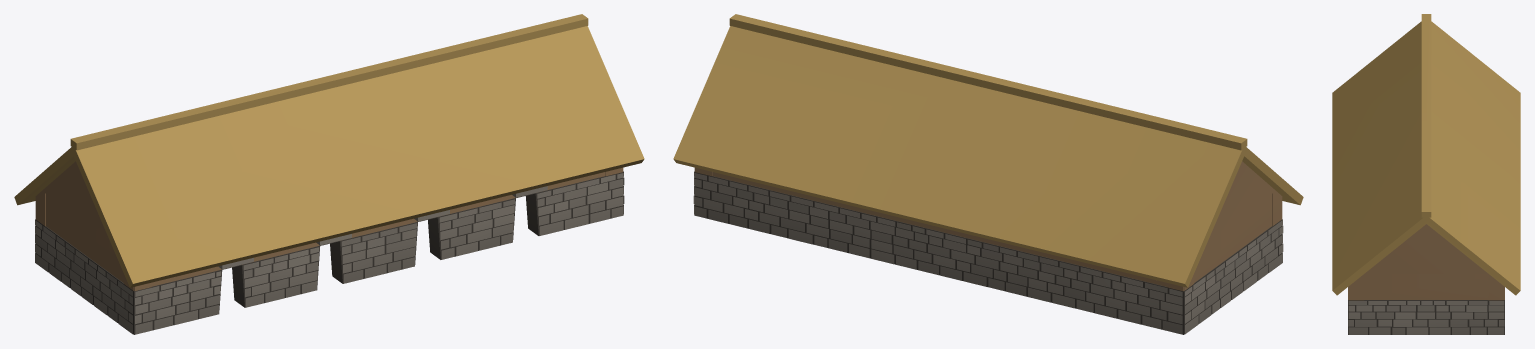
File: cusco_kallanka_lod1.glb
3 renders of one model, left to right at view 1: azimuth 30°, elevation 25°; view 2: azimuth 150°, elevation 25°; view 3: azimuth 270°, elevation 25°, orthographic. The views are drawn at different scales.
Parts seen in each view (by area): view 1: GEO-Arch_cusco_kallanka_LOD1; view 2: GEO-Arch_cusco_kallanka_LOD1; view 3: GEO-Arch_cusco_kallanka_LOD1.
Boxes of the visible parts, x1=… form: GEO-Arch_cusco_kallanka_LOD1: x1=14, y1=14, x2=644, y2=334; GEO-Arch_cusco_kallanka_LOD1: x1=673, y1=14, x2=1303, y2=334; GEO-Arch_cusco_kallanka_LOD1: x1=1332, y1=14, x2=1520, y2=334.
Size of the model in its own units: 20.9 by 6.26 by 8.4.
